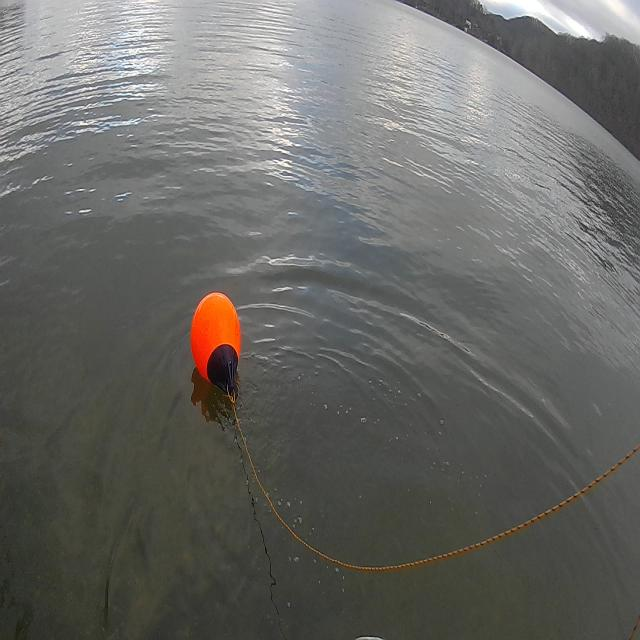Buoy: (185, 280, 247, 402)
